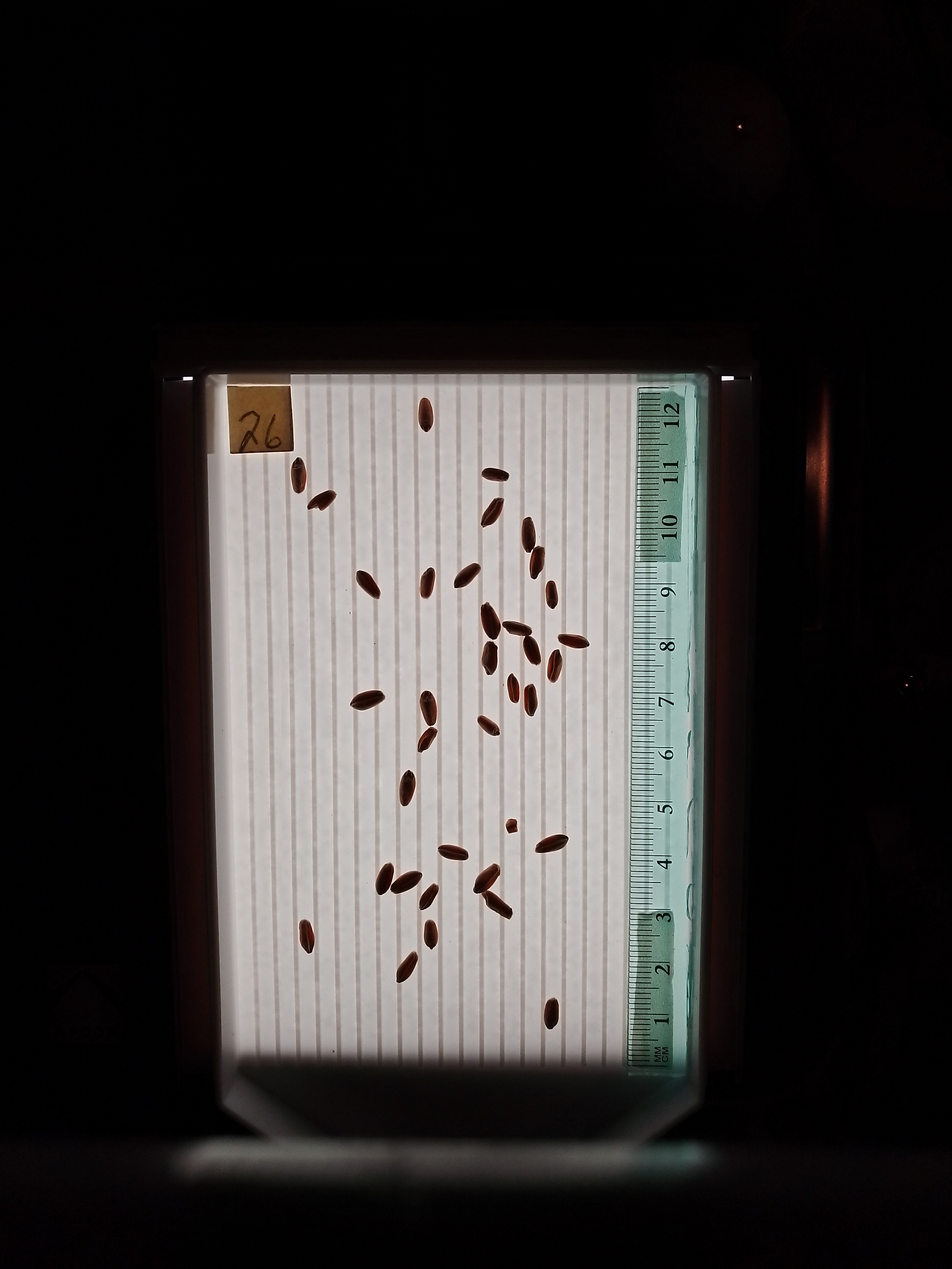seed mask: (474, 864, 500, 894), (484, 892, 512, 919), (351, 690, 384, 711), (481, 604, 501, 638), (454, 563, 480, 589), (481, 497, 504, 526), (357, 570, 380, 599), (535, 834, 568, 854), (392, 871, 421, 893), (396, 953, 417, 982), (420, 691, 437, 726), (399, 771, 416, 806), (418, 884, 439, 911), (418, 398, 434, 432), (376, 864, 393, 895), (521, 517, 536, 552), (523, 636, 541, 665), (308, 491, 335, 510), (291, 459, 306, 493), (529, 547, 545, 578), (547, 651, 563, 682), (482, 643, 498, 674), (299, 920, 314, 953), (419, 568, 435, 598), (417, 728, 437, 752), (544, 998, 559, 1029), (439, 845, 468, 861), (478, 715, 499, 737), (504, 621, 532, 637), (559, 634, 588, 649), (424, 920, 438, 949), (524, 685, 537, 715), (482, 468, 508, 482), (507, 675, 520, 703), (545, 582, 558, 608)
